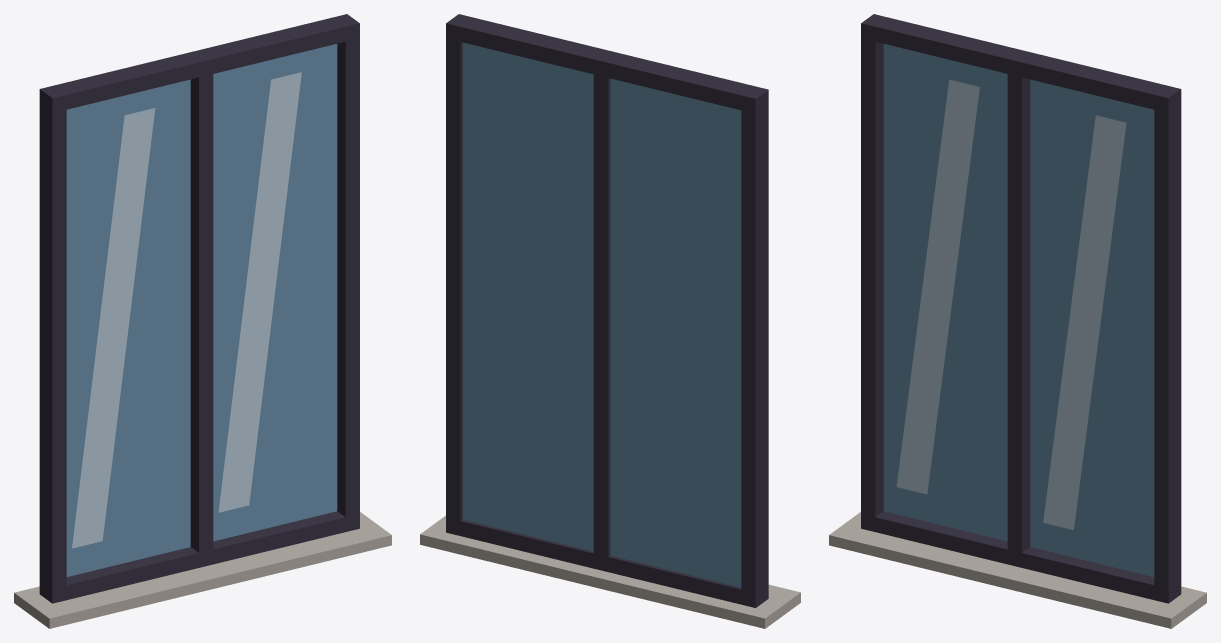
The model's file is SM_Window_Balcony_140x220.fbx.
The picture shows the model from 3 angles, left to right: view 1: azimuth 30°, elevation 25°; view 2: azimuth 150°, elevation 25°; view 3: azimuth 330°, elevation 25°; orthographic projection.
Visible parts, largest first — view 1: SM_Window_Balcony_140x220; view 2: SM_Window_Balcony_140x220; view 3: SM_Window_Balcony_140x220.
Boxes of the visible parts, x1,y1,x2,y2 form: SM_Window_Balcony_140x220: (14, 14, 391, 628); SM_Window_Balcony_140x220: (420, 14, 800, 628); SM_Window_Balcony_140x220: (829, 14, 1206, 628).
Size of the model in its own units: 1.56 by 0.28 by 2.25.
